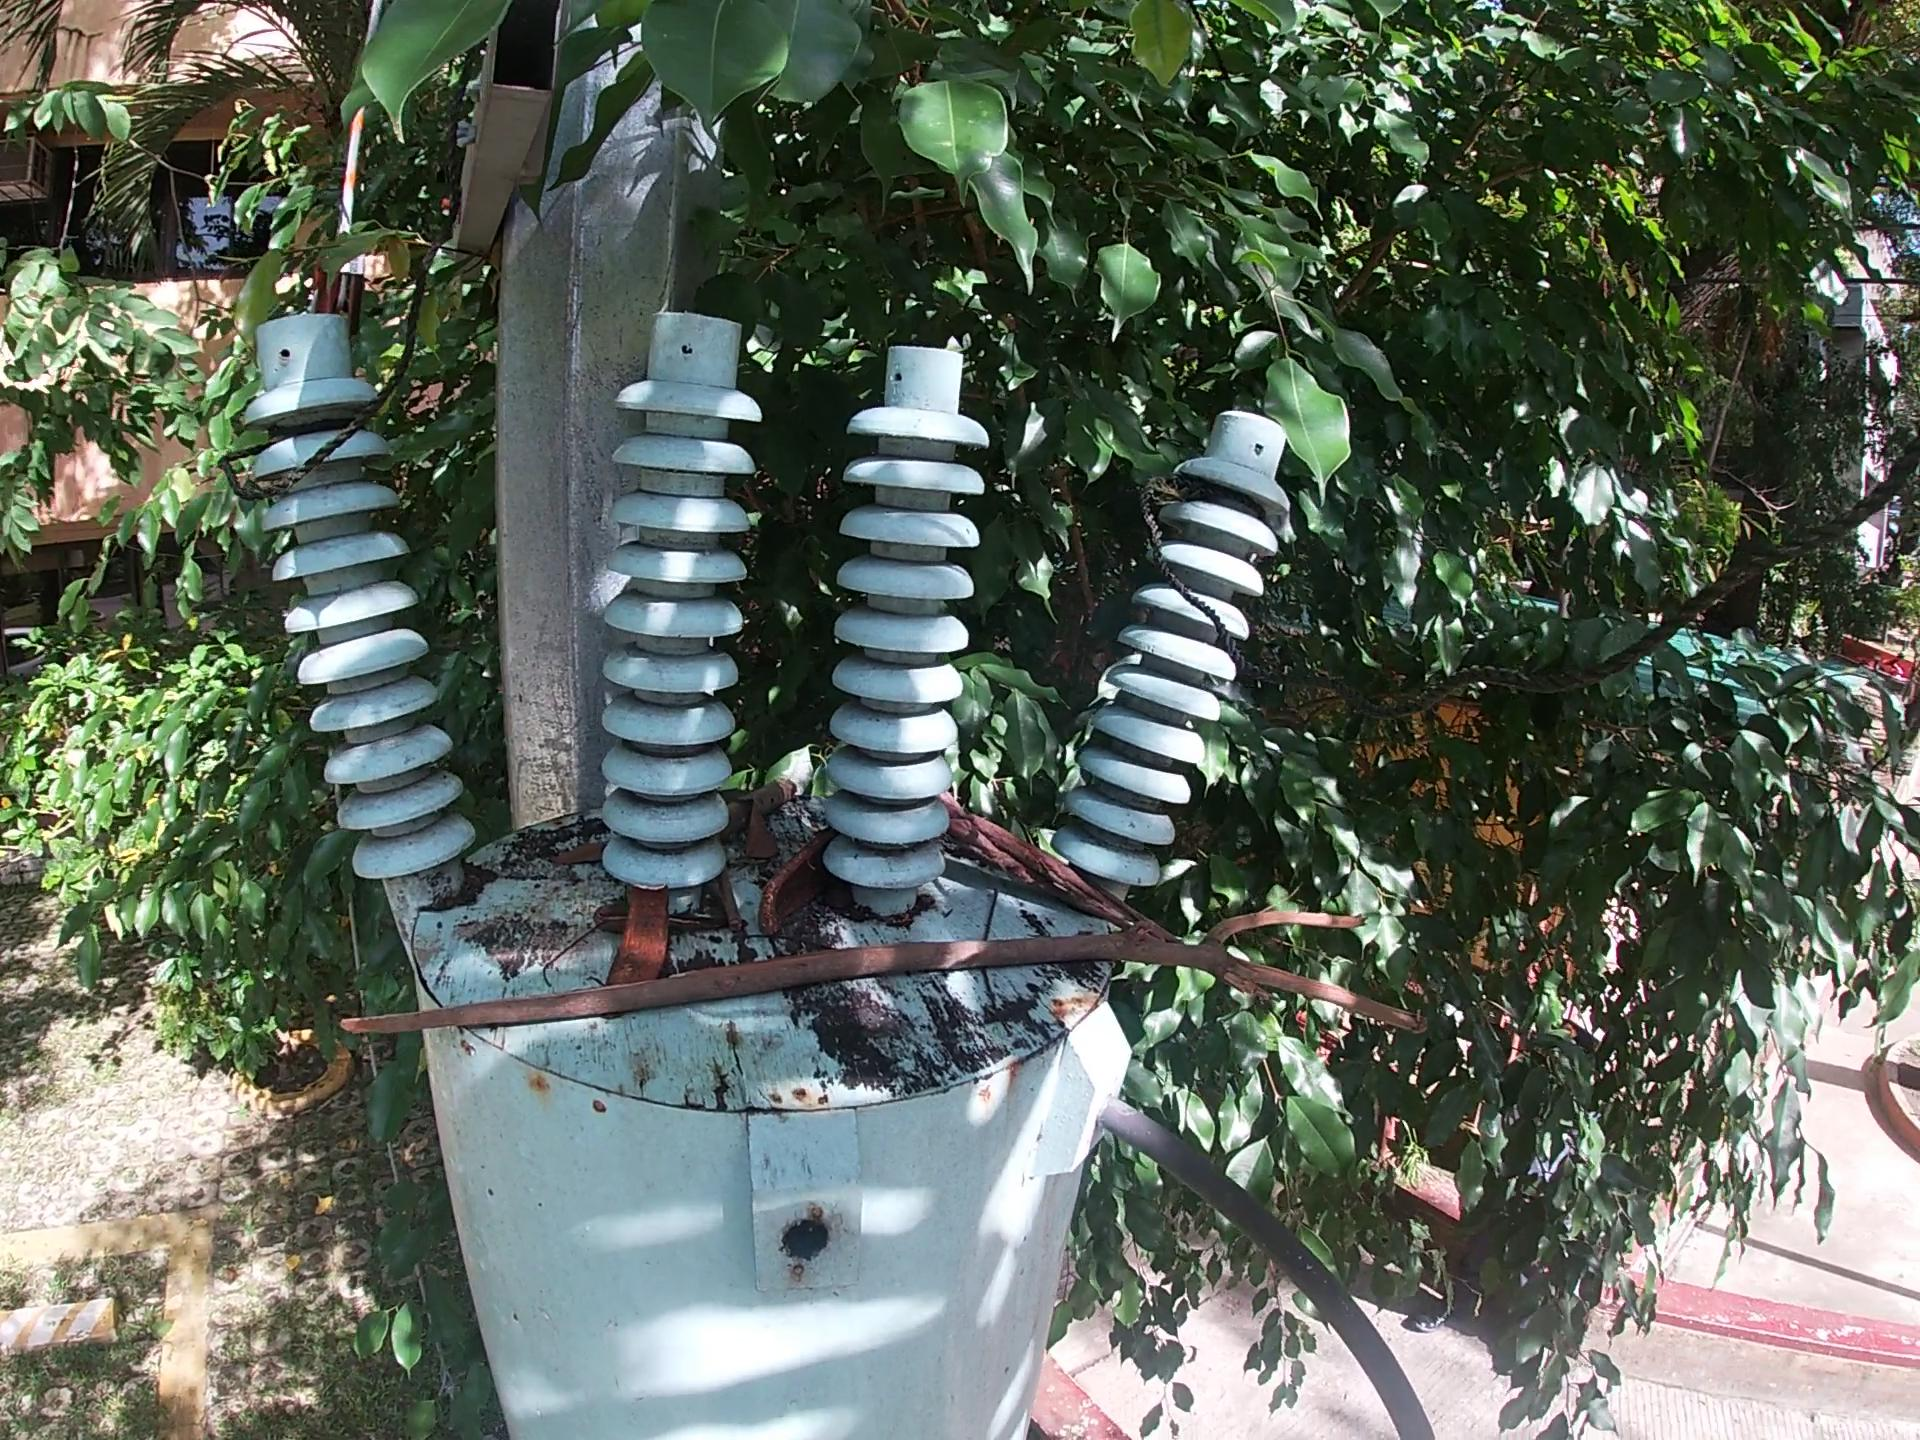leaf: (736, 793, 785, 867), (535, 836, 609, 879), (599, 895, 626, 941)
mahogany fruit: (756, 829, 841, 941), (605, 880, 680, 1001)
tree branch: (321, 892, 1426, 1047), (940, 788, 1265, 1004), (727, 764, 797, 827), (717, 864, 745, 939)
